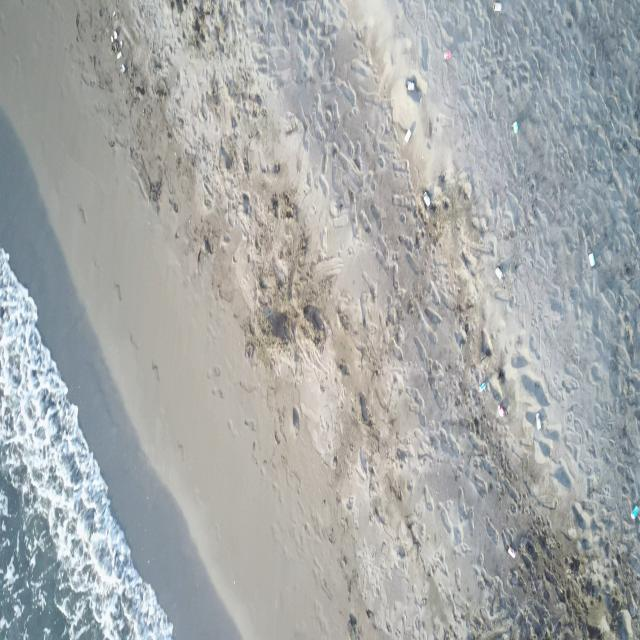Garbage: (404, 77, 420, 101), (422, 191, 431, 207), (631, 504, 639, 519), (404, 128, 412, 143), (407, 79, 415, 91), (495, 267, 503, 279), (496, 404, 504, 415), (444, 49, 452, 60), (535, 412, 540, 428), (508, 546, 515, 557), (479, 382, 487, 391), (111, 30, 118, 40), (493, 2, 500, 11), (512, 120, 517, 132), (588, 252, 592, 267), (110, 33, 115, 42), (120, 63, 125, 72), (116, 51, 120, 59), (111, 9, 114, 18)
